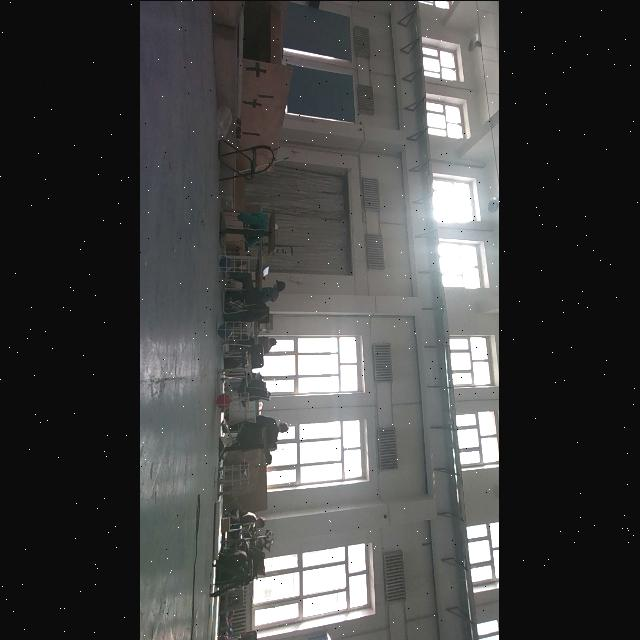B: (219, 256, 233, 270)
R: (217, 392, 231, 408)
S: (212, 461, 254, 487), (215, 316, 252, 342), (214, 388, 252, 412), (215, 251, 252, 275)
